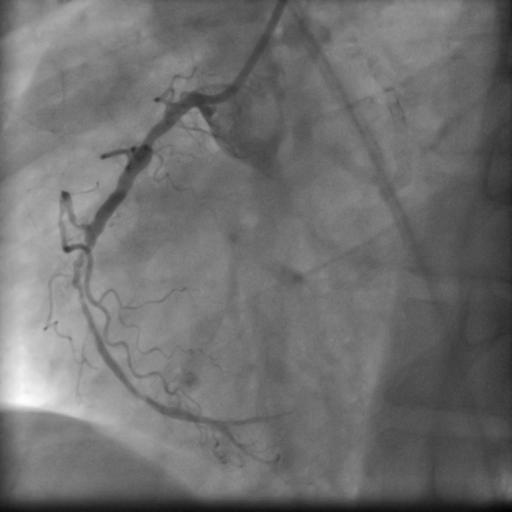Stenosis: (144, 119, 164, 154)
